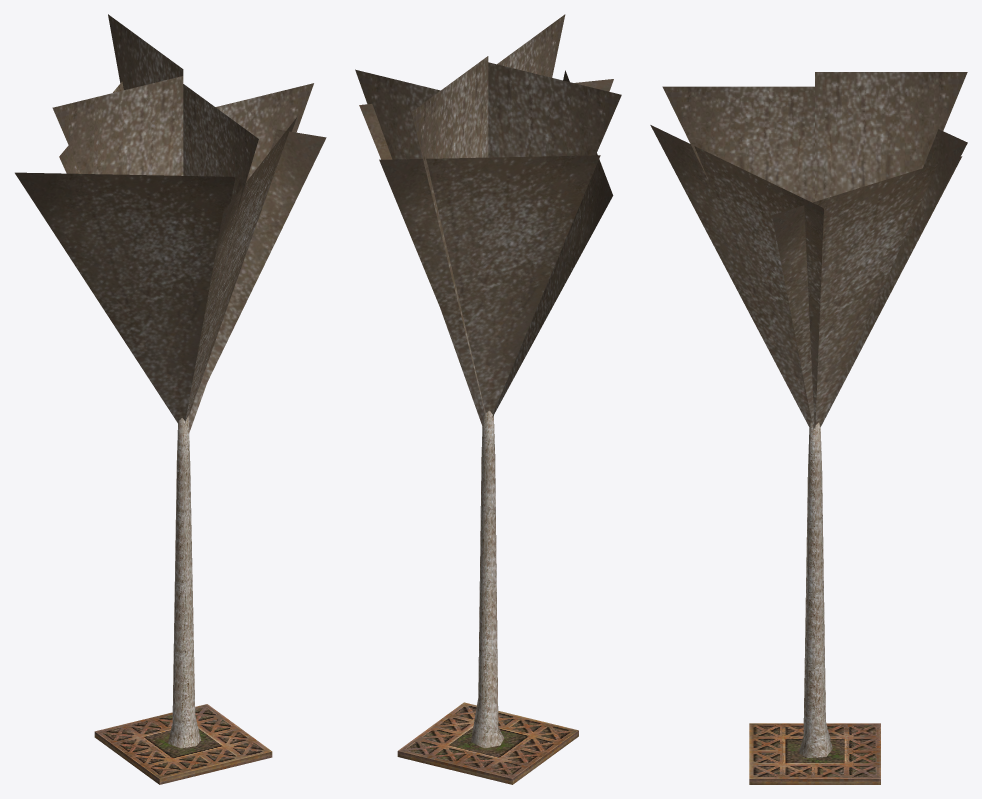
The model's file is tree3a_base.fbx.
The picture shows the model from 3 angles, left to right: view 1: azimuth 30°, elevation 25°; view 2: azimuth 150°, elevation 25°; view 3: azimuth 270°, elevation 25°; orthographic projection.
Visible parts, largest first — view 1: mesh_2, mesh_0, mesh_1; view 2: mesh_2, mesh_0, mesh_1; view 3: mesh_2, mesh_0, mesh_1.
Part boxes in pixels (left/top/right/bottom): mesh_2: left=15, top=14, right=326, bottom=432; mesh_0: left=94, top=704, right=272, bottom=784; mesh_1: left=168, top=415, right=200, bottom=748; mesh_2: left=355, top=14, right=621, bottom=426; mesh_0: left=397, top=702, right=578, bottom=784; mesh_1: left=471, top=410, right=504, bottom=748; mesh_2: left=650, top=72, right=967, bottom=429; mesh_0: left=749, top=723, right=880, bottom=784; mesh_1: left=799, top=422, right=832, bottom=757.
Bounding box in the file's own units: 491 × 1149 × 483.
3 materials, 3 textured.
